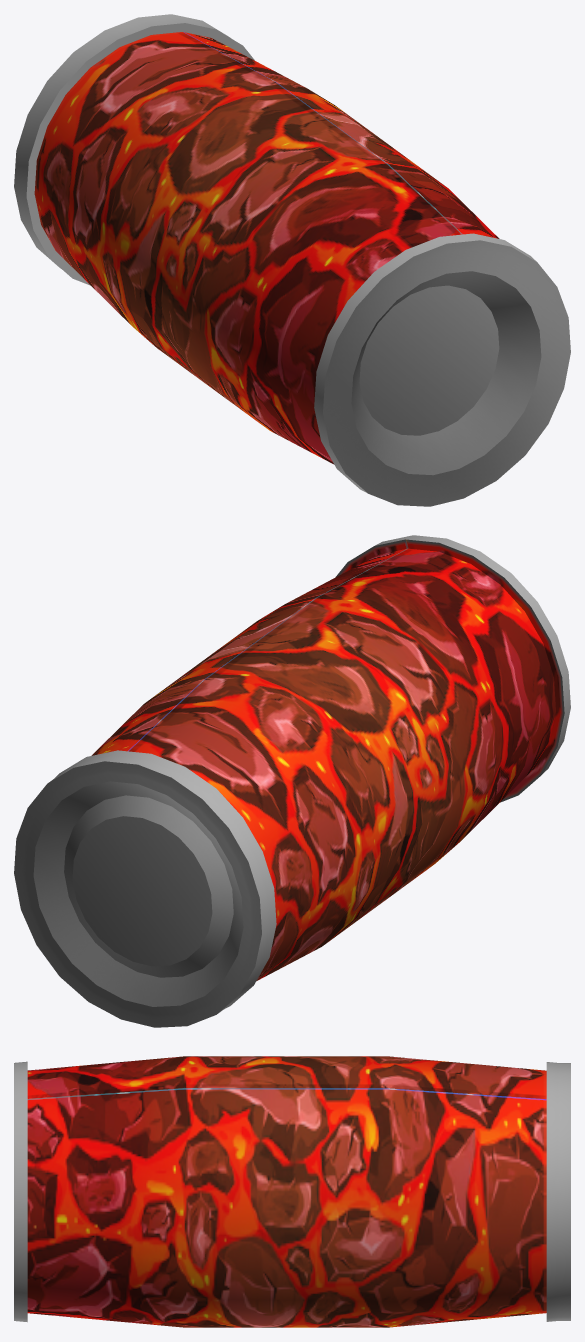
The model's file is Energy Drink.fbx.
3 views of the same model, one above another, from view 1: azimuth 30°, elevation 25°; view 2: azimuth 150°, elevation 25°; view 3: azimuth 270°, elevation 25° (orthographic). The views are drawn at different scales.
Parts seen in each view (by area): view 1: Energy Drink; view 2: Energy Drink; view 3: Energy Drink.
Boxes of the visible parts, box(x1,y1,x2,y2) form: Energy Drink: box(14, 14, 570, 506); Energy Drink: box(14, 535, 570, 1027); Energy Drink: box(14, 1056, 570, 1327).
Size of the model in its own units: 50.24 by 50.12 by 103.
